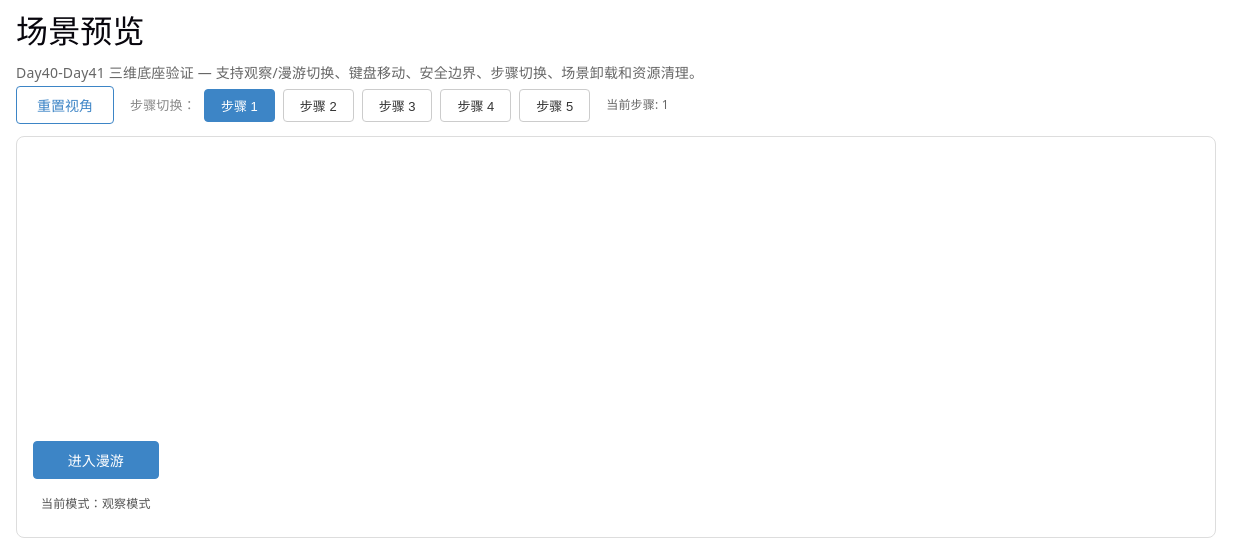
Test: ScenePreviewPage › should switch step on button click
Click the button with test id "step-3": click(397, 105) [362,89,432,122]
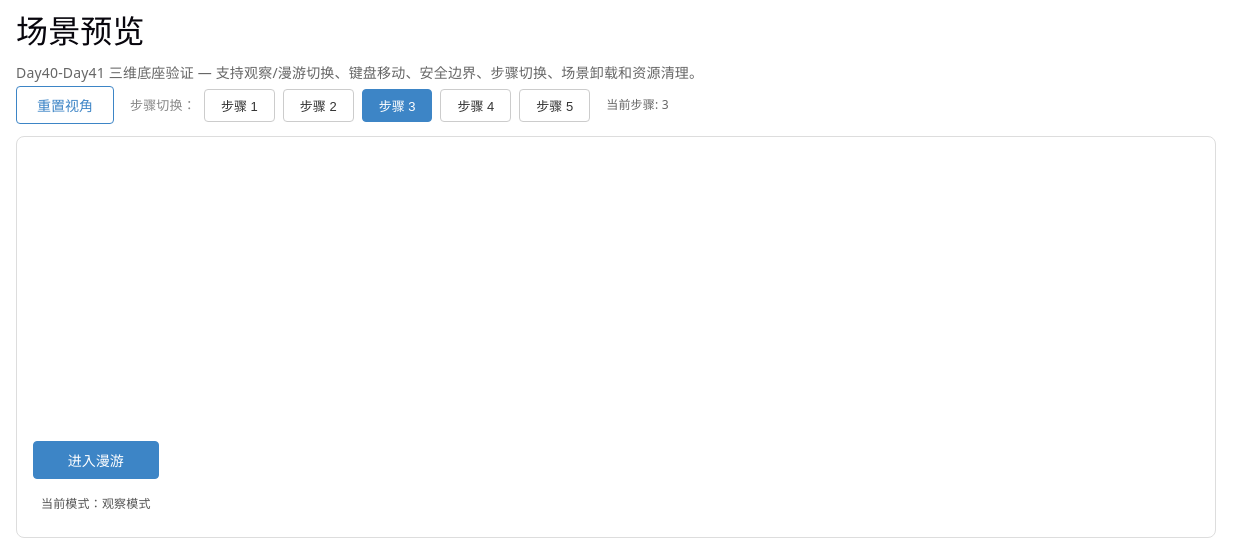
Check: the text with test id "current-step" reads "当前步骤: 3", box [606,92,669,118]
